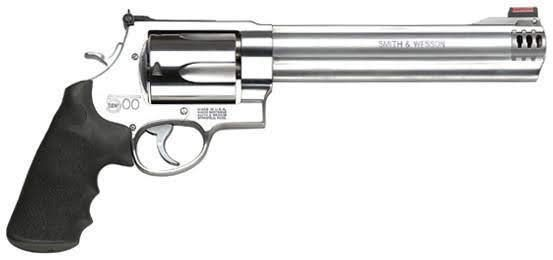gun: (14, 4, 540, 244)
